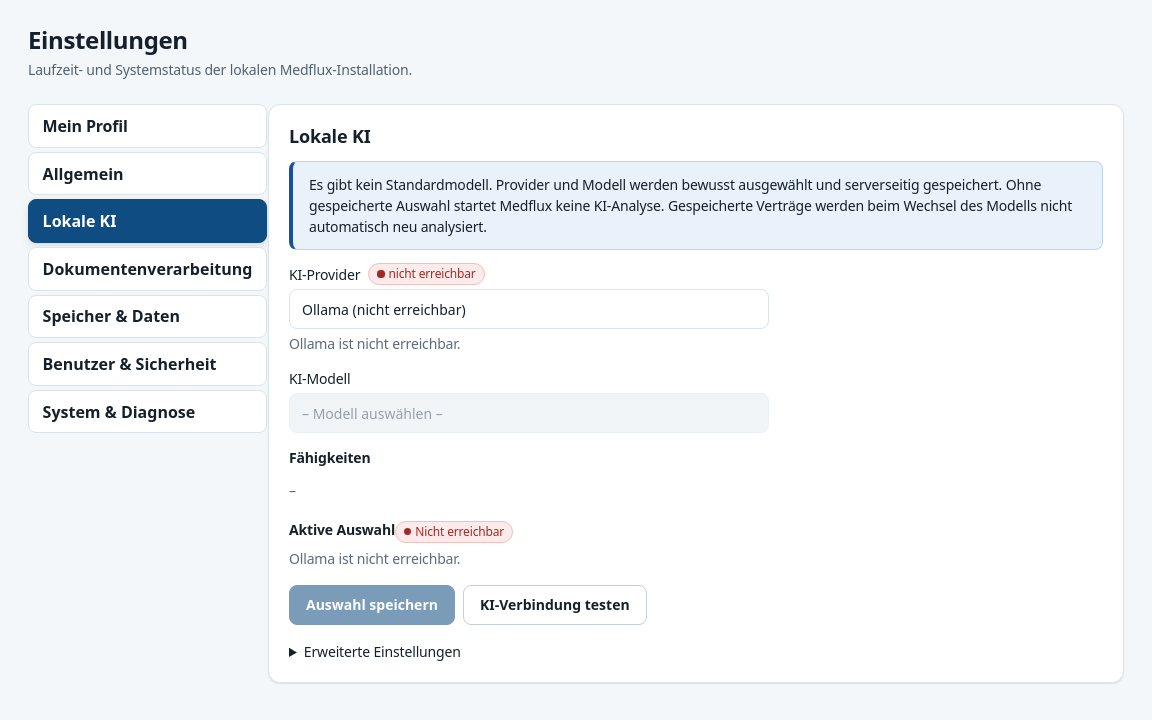
it: Einstellungen: KI-Test error-path ehrlich und terminiert › fuehrt bei Erfolg einen echten POST aus und zeigt Erfolgsbanner
Expected: the text "Nicht erreichbar" is shown, x1=395 y1=520 x2=513 y2=543
Click the button "KI-Verbindung testen" at (555, 606), box x1=463 y1=586 x2=647 y2=626
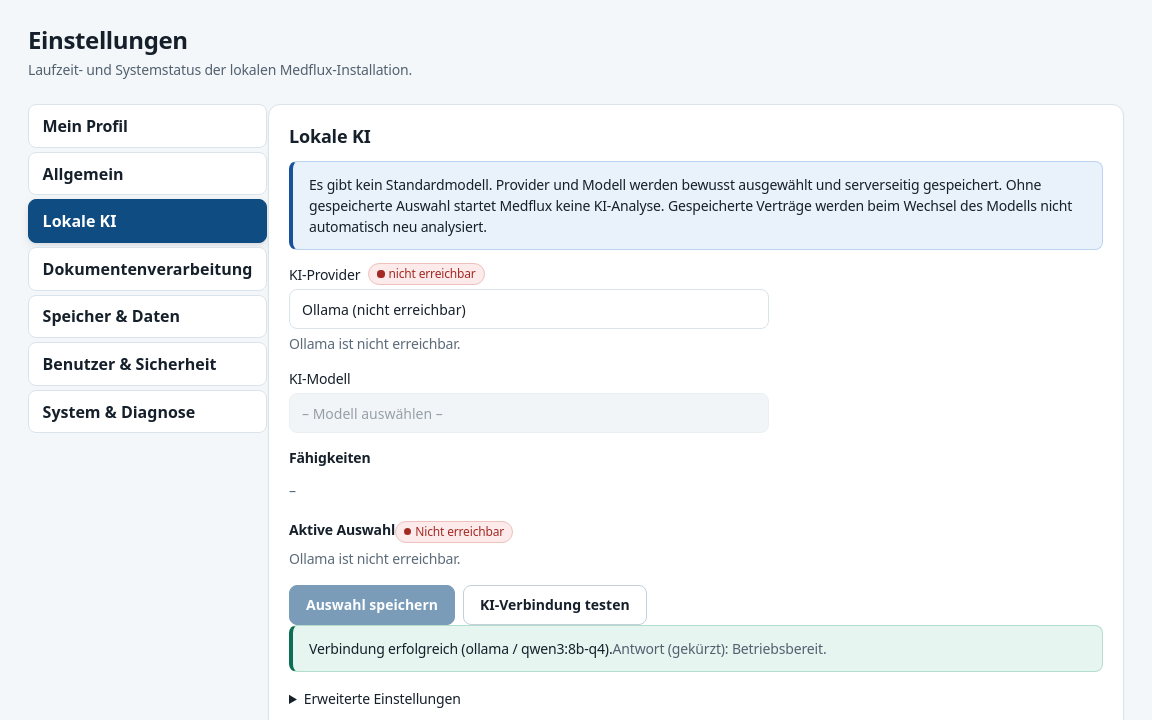
Expected: the text "Verbindung erfolgreich" is shown, x1=309 y1=640 x2=612 y2=658
